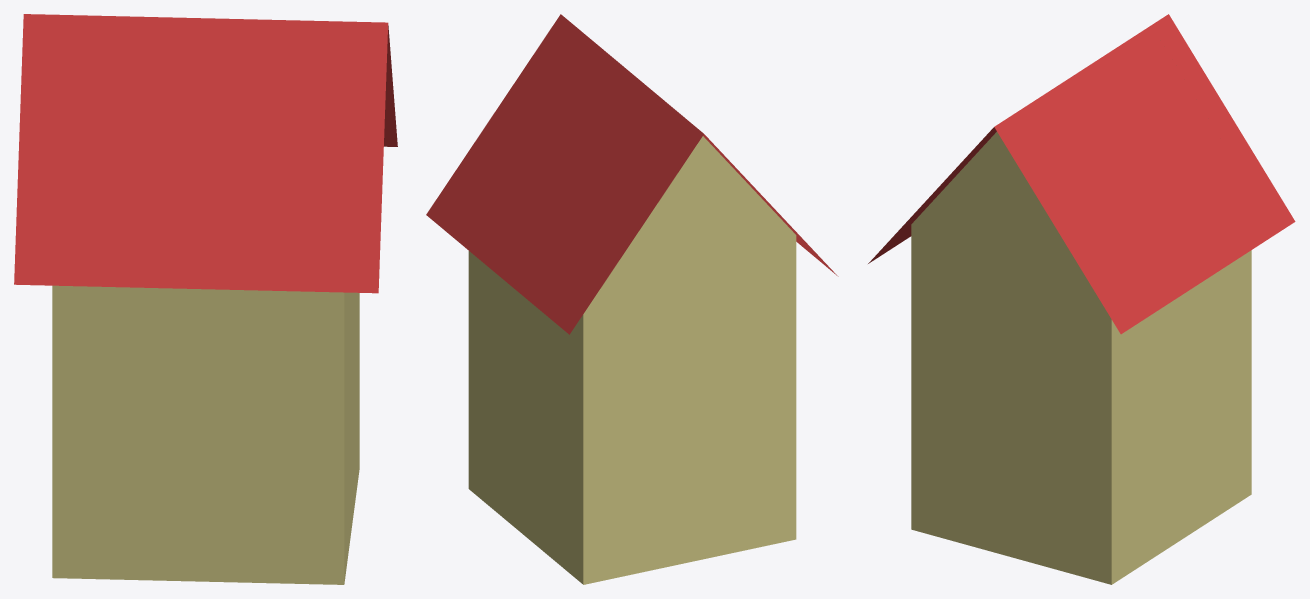
3 renders of one model, left to right at view 1: azimuth 30°, elevation 25°; view 2: azimuth 150°, elevation 25°; view 3: azimuth 270°, elevation 25°, orthographic. The views are drawn at different scales.
Parts seen in each view (by area): view 1: group_3, group_5, group_4; view 2: group_5, group_3, group_4; view 3: group_5, group_3, group_4.
Part boxes in pixels (x1,y1,x2,y2): group_3: [14, 14, 390, 293]; group_5: [52, 285, 359, 584]; group_4: [14, 14, 397, 292]; group_5: [468, 136, 796, 584]; group_3: [426, 14, 702, 334]; group_4: [467, 122, 838, 276]; group_5: [911, 132, 1251, 584]; group_3: [994, 15, 1295, 334]; group_4: [868, 14, 1243, 325].
Bounding box in the file's own units: 13.62 × 13.47 × 15.34.
